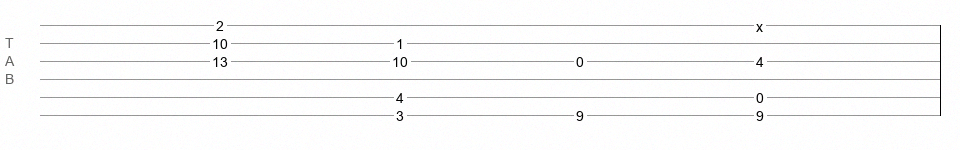0: (576, 54, 584, 64), (756, 90, 764, 100)
1: (396, 36, 404, 46)
10: (212, 36, 228, 46), (392, 54, 408, 64)
13: (212, 54, 228, 64)
2: (216, 18, 224, 28)
3: (396, 108, 404, 118)
4: (396, 90, 404, 100), (756, 54, 764, 64)
9: (576, 108, 584, 118), (756, 108, 764, 118)
x: (756, 19, 763, 27)
